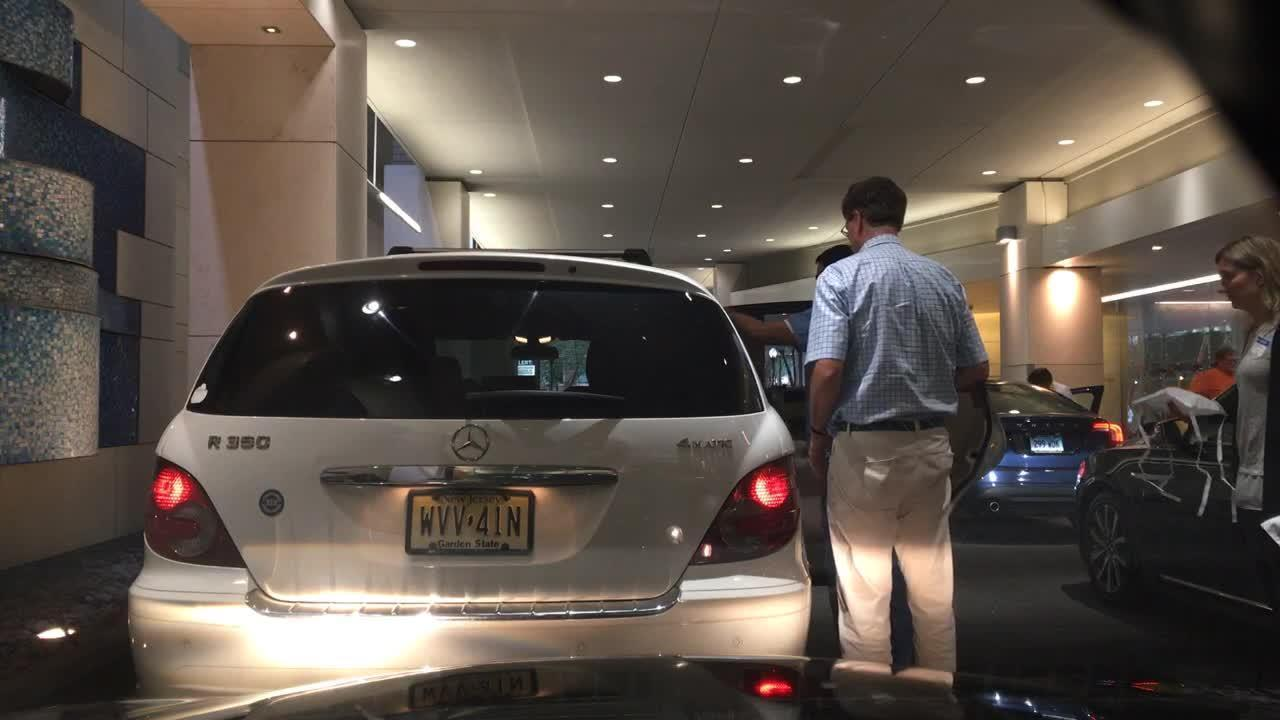Mercedes: (446, 415, 495, 464)
